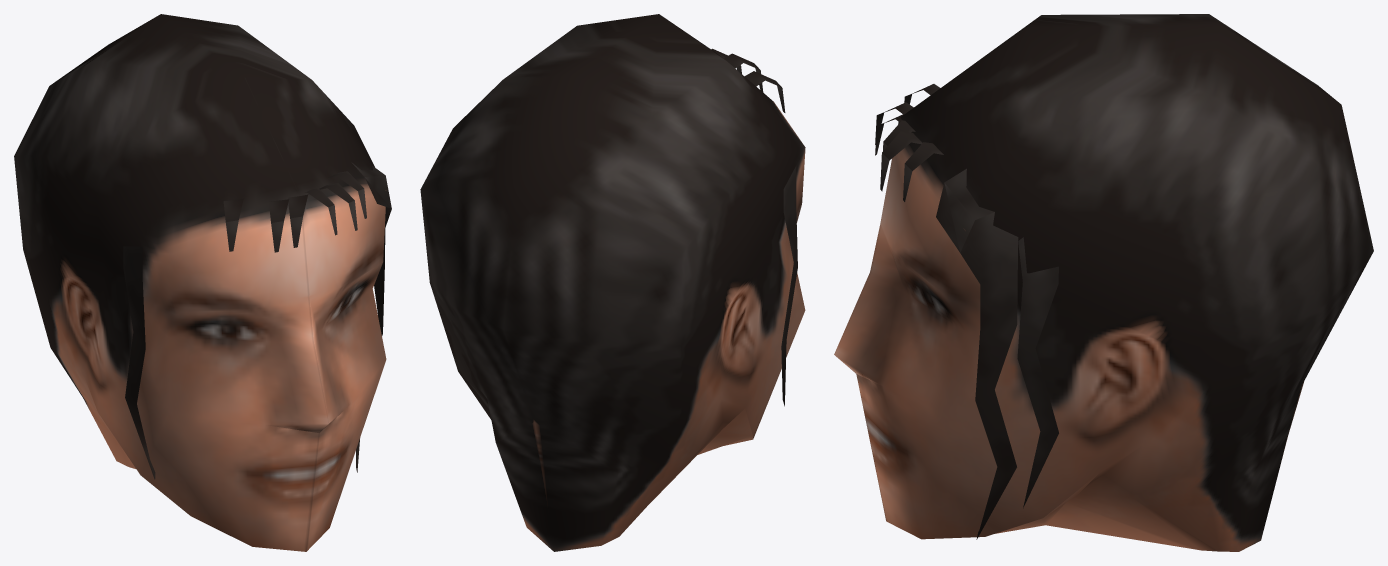
The model's file is zapo_fem_head.dae.
The picture shows the model from 3 angles, left to right: view 1: azimuth 30°, elevation 25°; view 2: azimuth 150°, elevation 25°; view 3: azimuth 270°, elevation 25°; orthographic projection. The views are drawn at different scales.
Visible parts, largest first — view 1: head_female_shorthair; view 2: head_female_shorthair; view 3: head_female_shorthair.
Boxes of the visible parts, x1,y1,x2,y2 form: head_female_shorthair: [14, 14, 391, 551]; head_female_shorthair: [420, 14, 805, 551]; head_female_shorthair: [834, 14, 1373, 551].
Size of the model in its own units: 0.3717 by 0.5689 by 0.5993.
